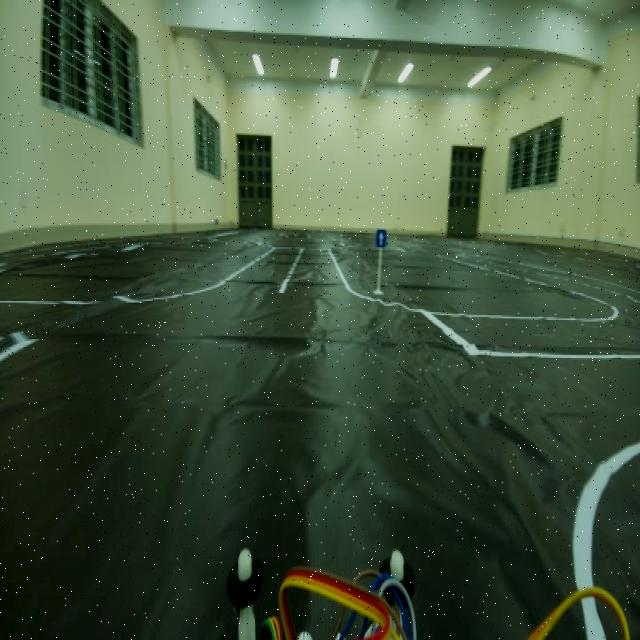onewayroad: (375, 219, 389, 253)
